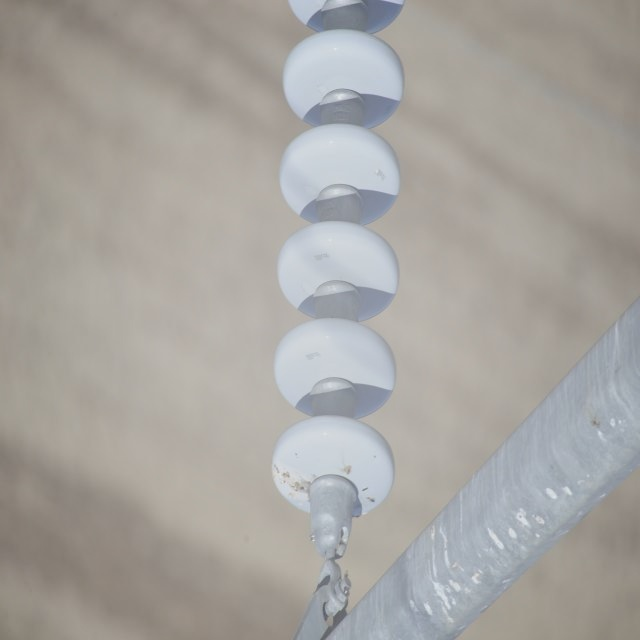insulator: (270, 0, 409, 519)
